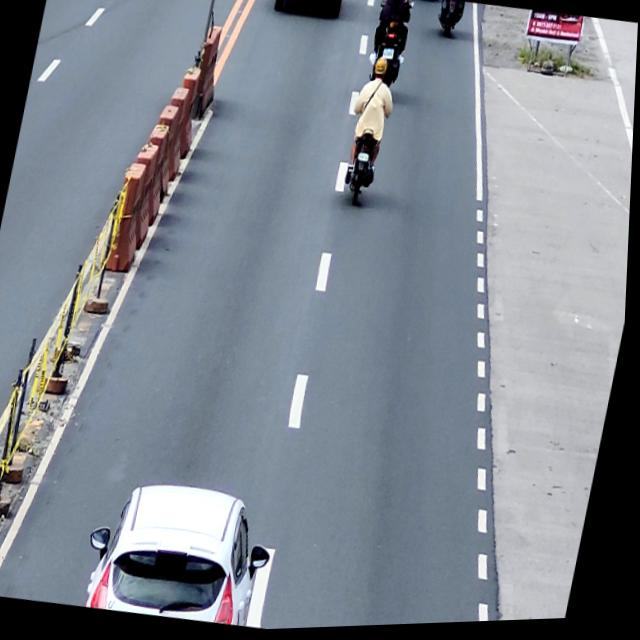Car: (81, 470, 288, 636), (271, 0, 346, 24)
License-Plate: (382, 51, 395, 63), (358, 155, 372, 166)
Motorcycle: (336, 95, 396, 213), (364, 0, 416, 96), (433, 1, 467, 45)
